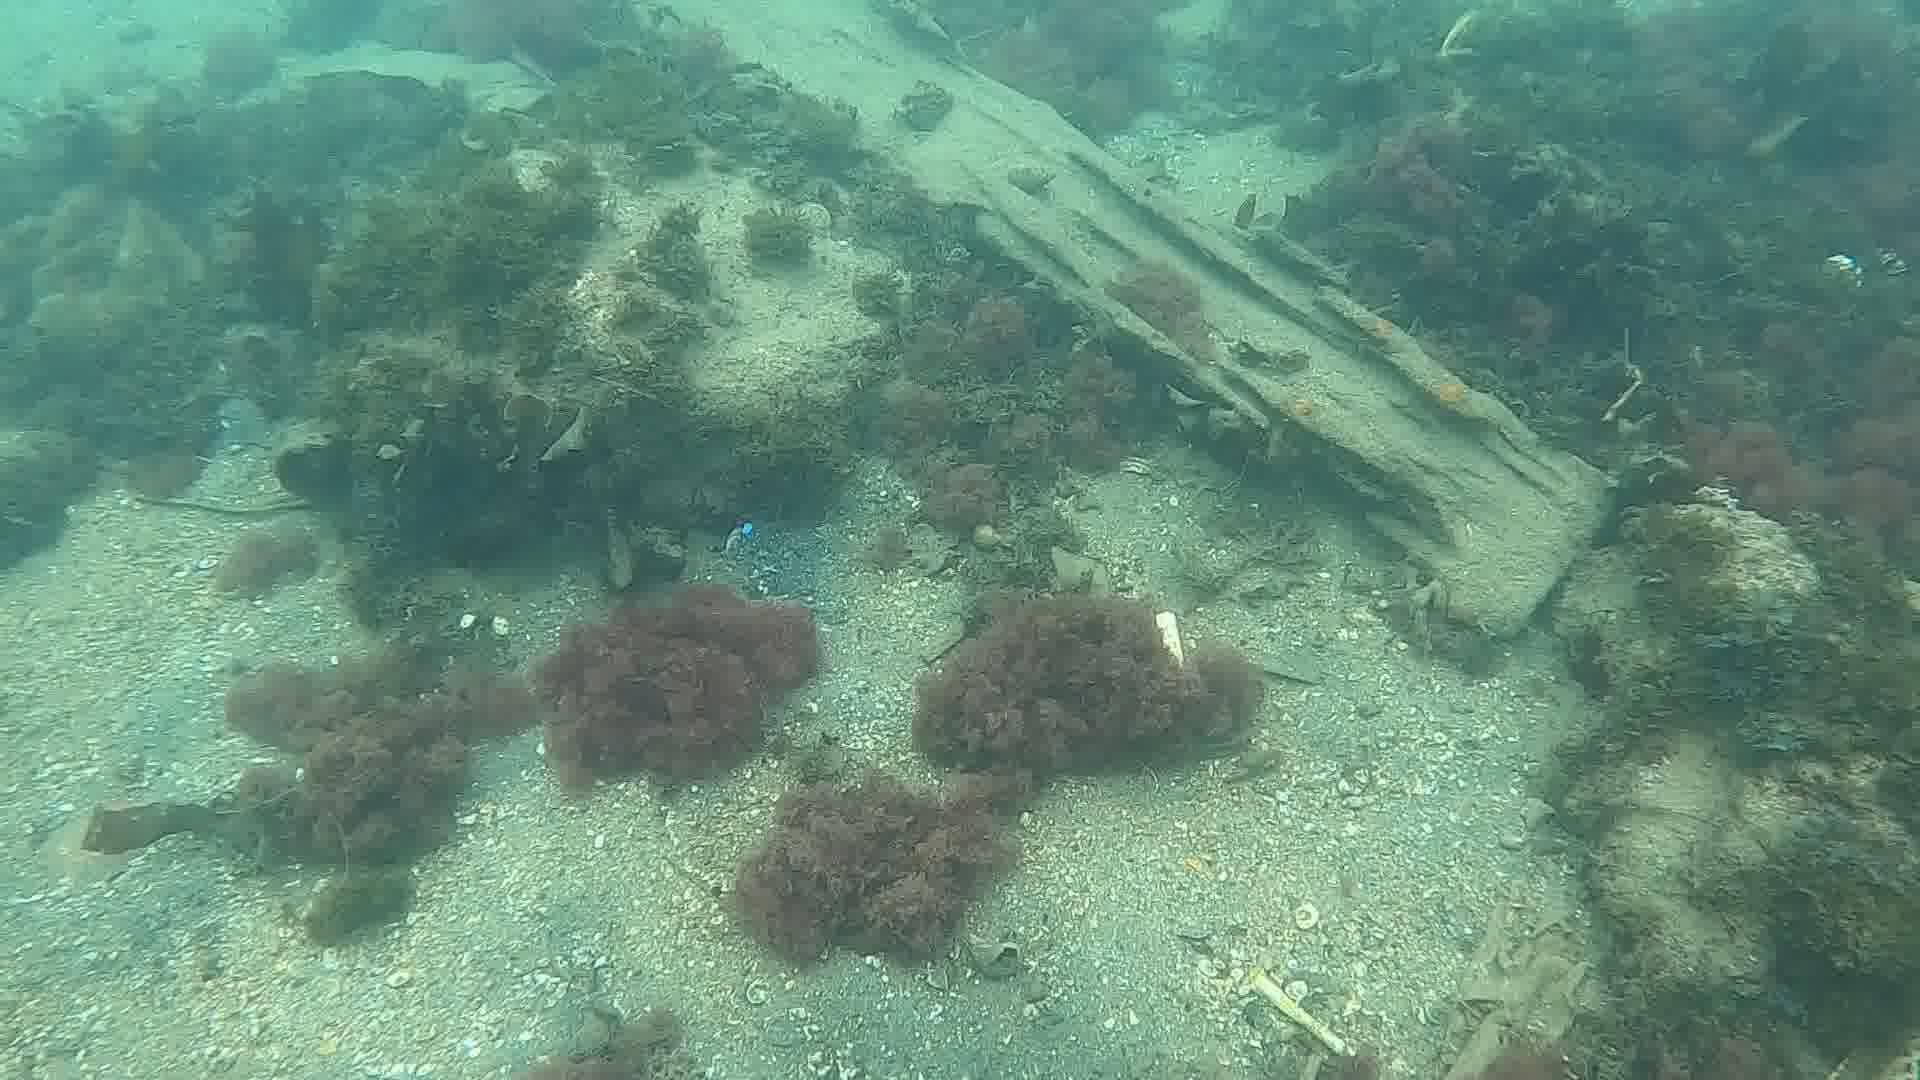wood: (608, 0, 1619, 645)
